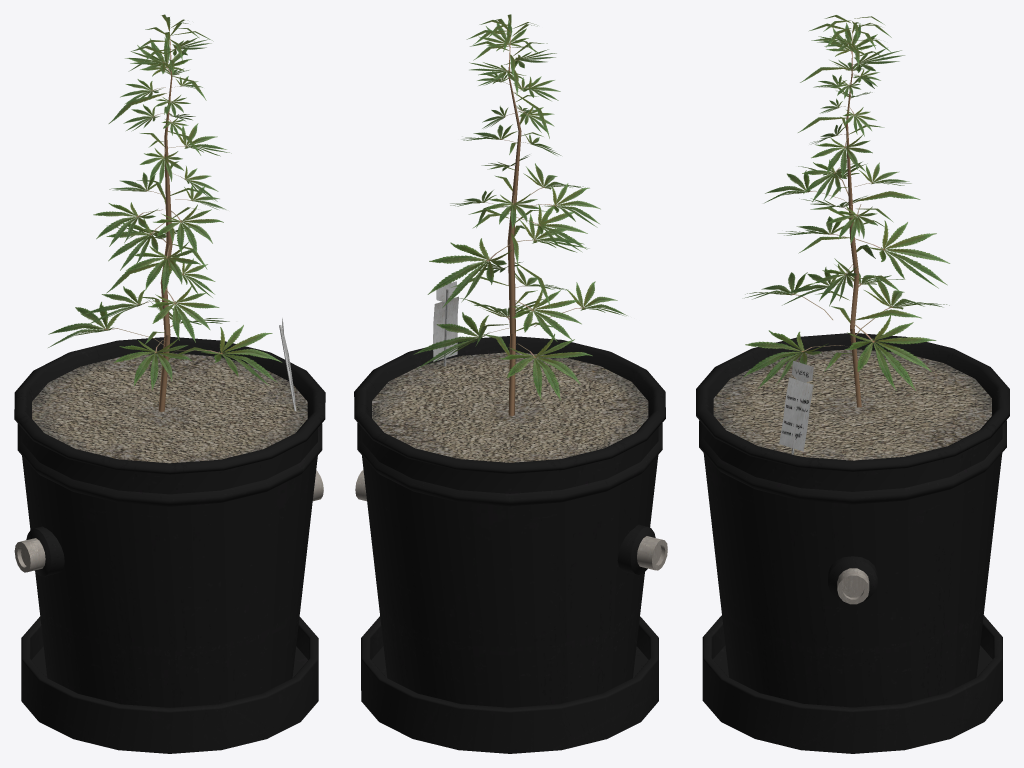
File: plant-small-2.glb
3 views of the same model, side by side, from view 1: azimuth 30°, elevation 25°; view 2: azimuth 150°, elevation 25°; view 3: azimuth 270°, elevation 25° (orthographic).
Parts seen in each view (by area): view 1: Weed Plant Small_b; view 2: Weed Plant Small_b; view 3: Weed Plant Small_b.
Part boxes in pixels (bbox=[...]): Weed Plant Small_b: bbox=[14, 14, 325, 753]; Weed Plant Small_b: bbox=[354, 14, 667, 753]; Weed Plant Small_b: bbox=[696, 15, 1009, 753].
Size of the model in its own units: 0.499 by 1.08 by 0.4561.
Materials: 5 (5 with a texture image).
